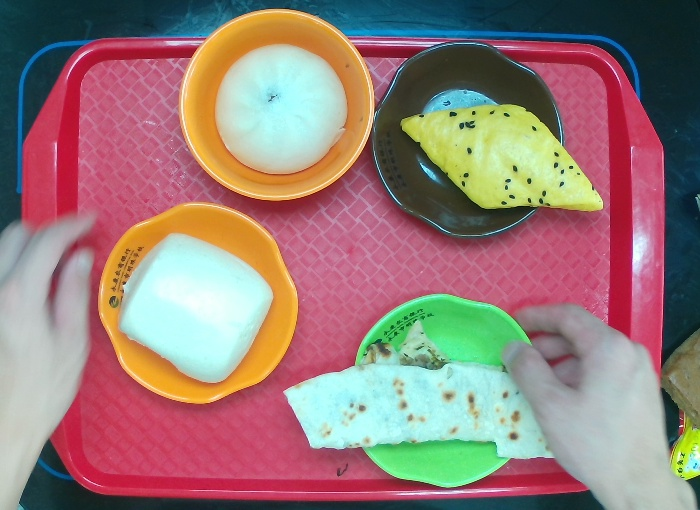YKMZ-Ju_Se_Ao_Bian_Wan: (91, 203, 304, 405)
YKMZ-Ju_Se_Yuan_Wan: (178, 8, 375, 197)
YKMZ-Ka_Fei_Ao_Bian_Wan: (372, 42, 571, 241)
YKMZ-Lv_Se_Ao_Bian_Wan: (346, 290, 547, 493)
